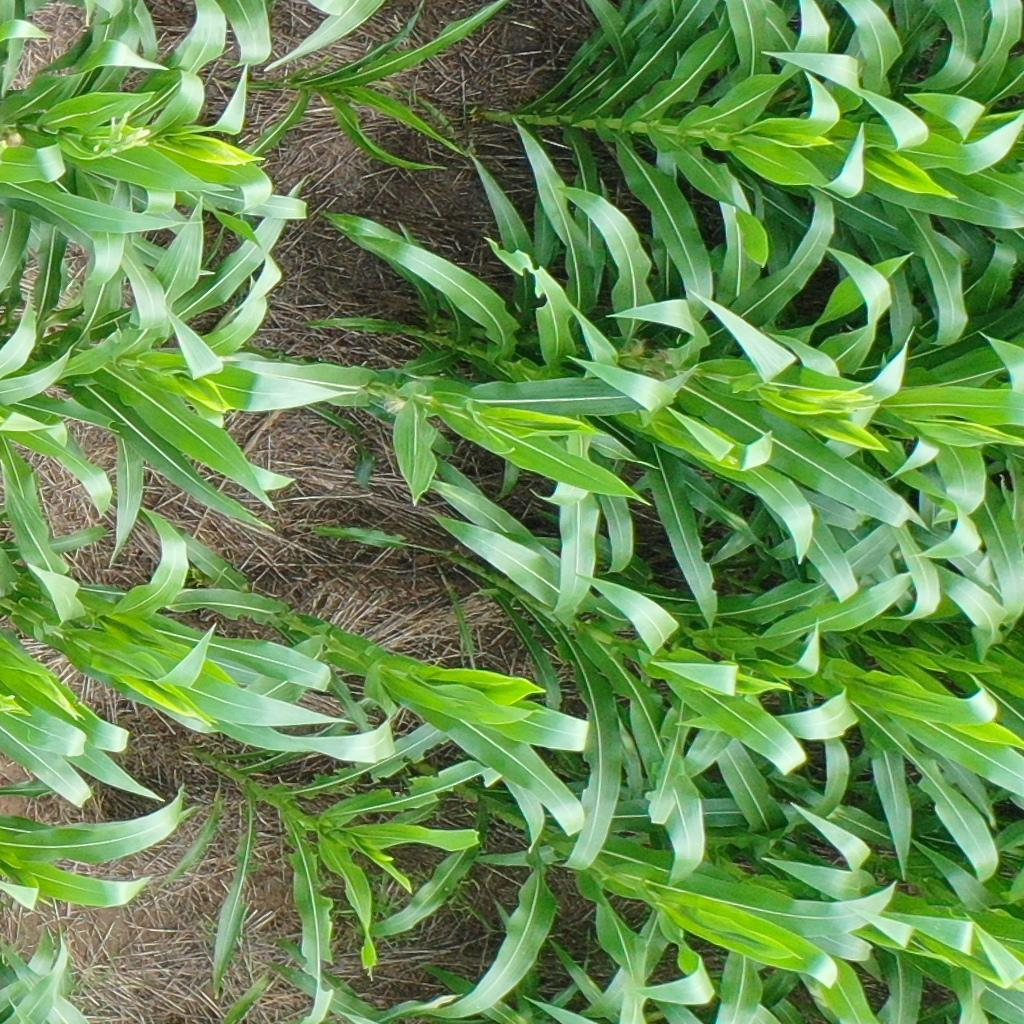Tassel: (85, 108, 152, 160), (46, 677, 83, 721), (822, 379, 878, 408), (207, 141, 248, 169), (1, 694, 25, 714), (723, 447, 742, 469)
